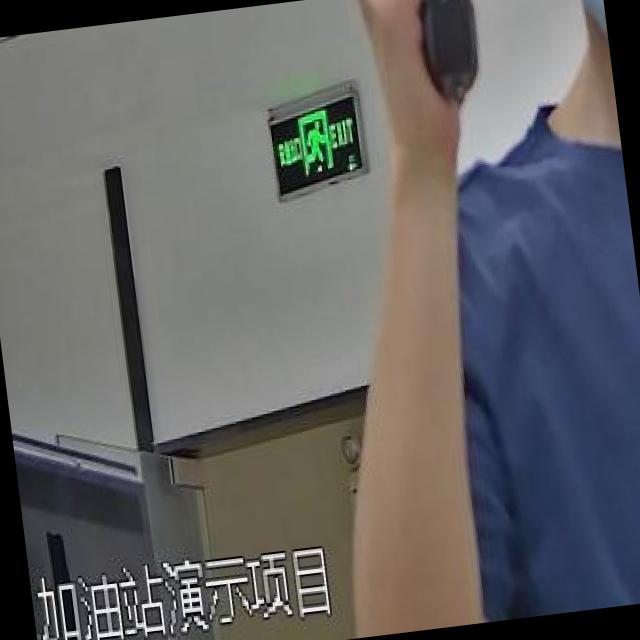Guns: (328, 0, 527, 129)
